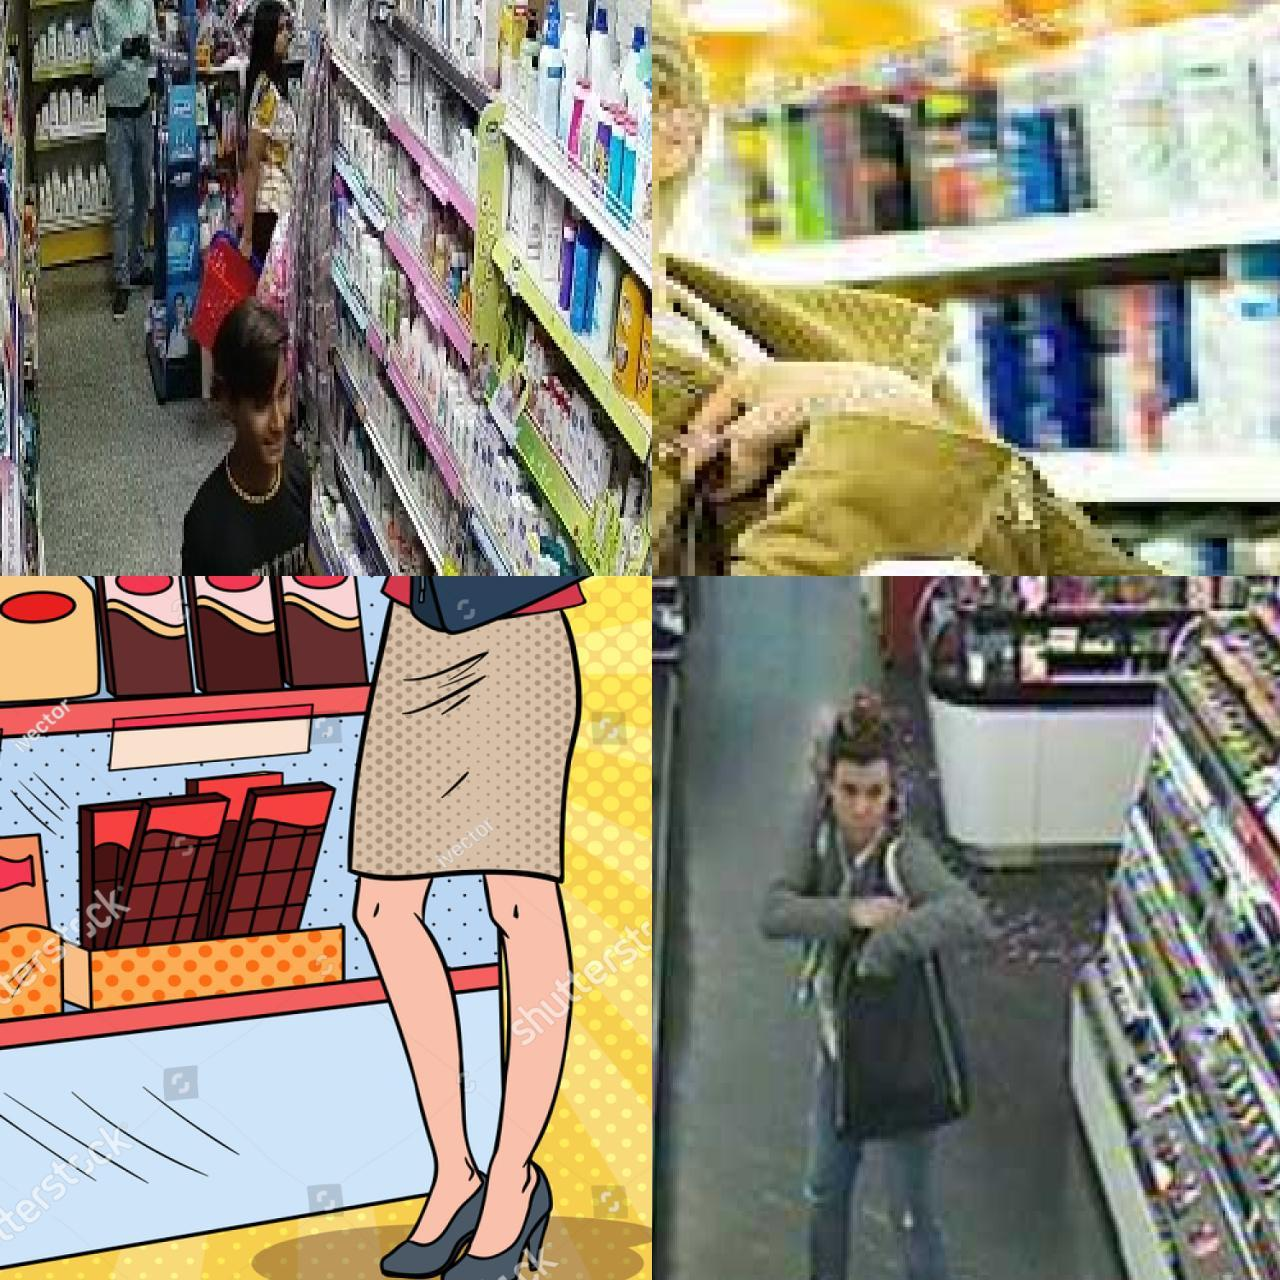Shoplifting: (652, 239, 1248, 576), (652, 280, 1280, 576), (111, 576, 652, 898), (757, 678, 1019, 1280)
normal: (124, 279, 392, 576)
